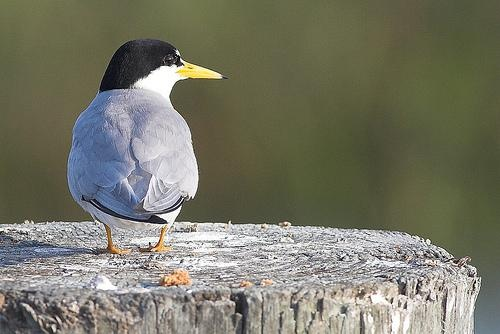bird: (64, 35, 227, 250)
